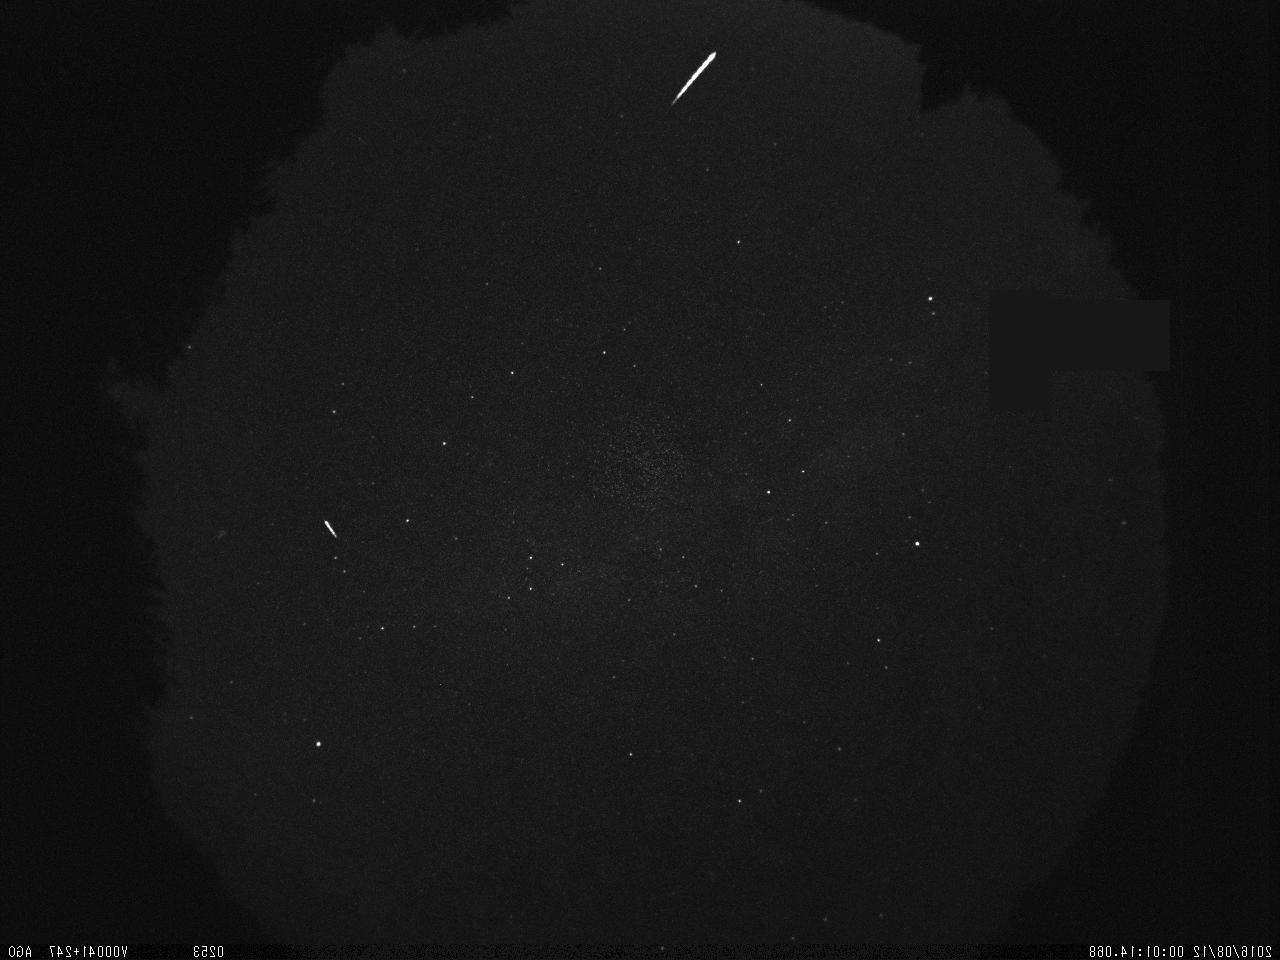meteor: (627, 36, 760, 124)
